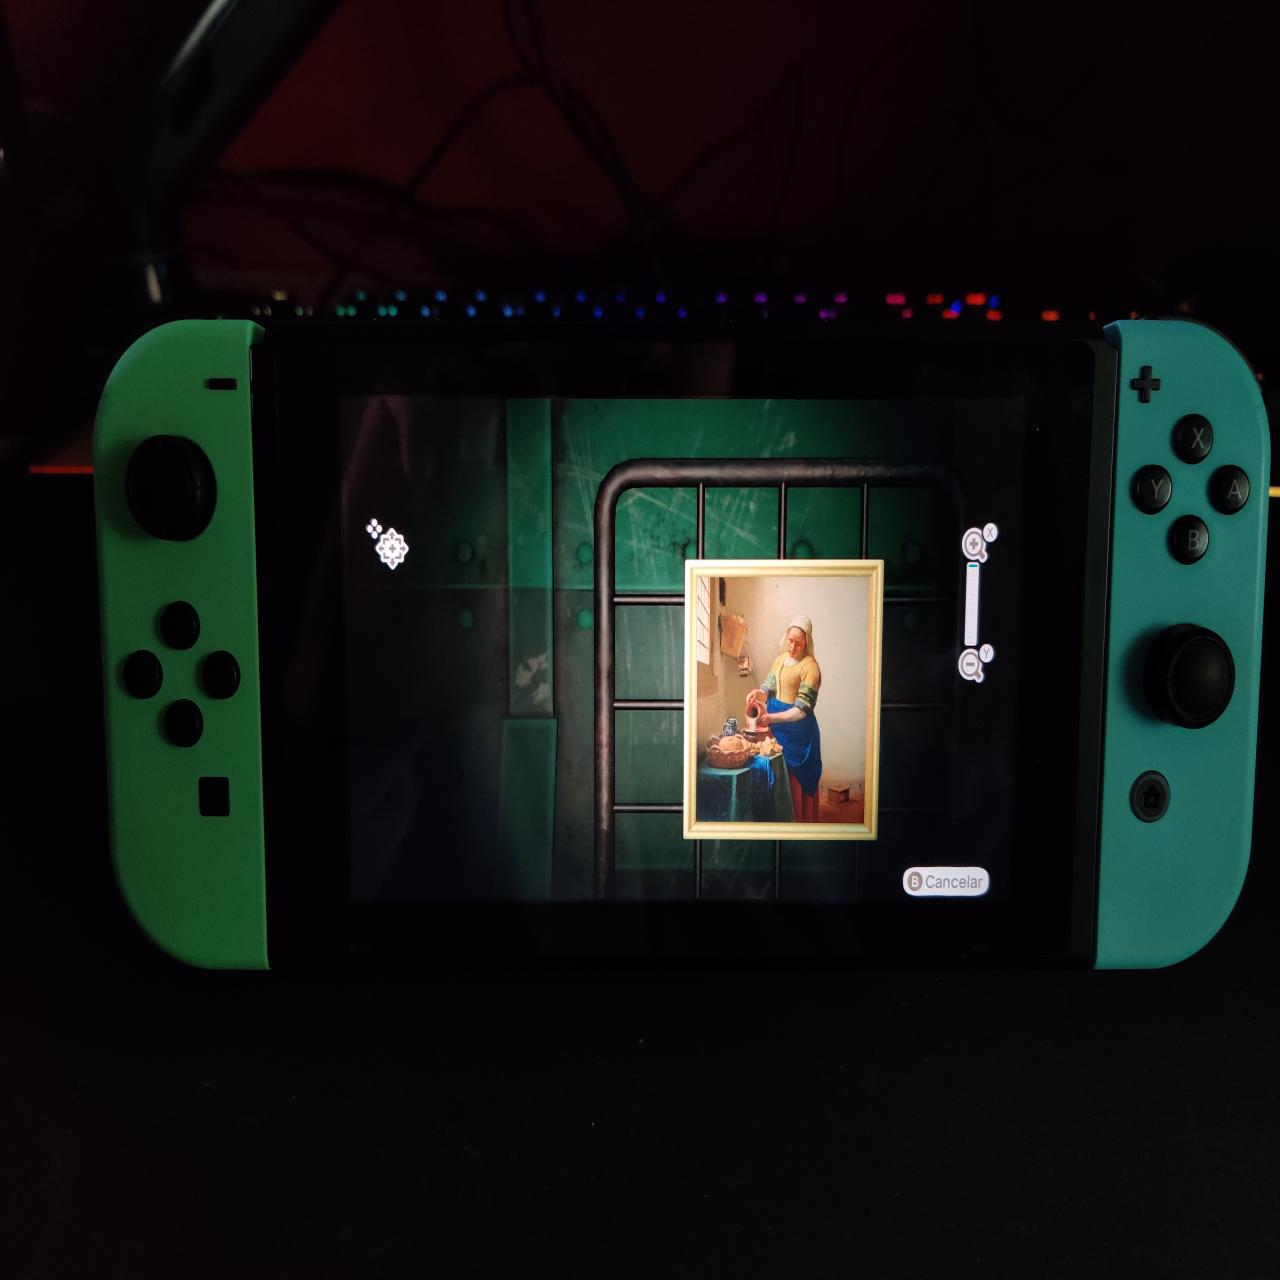MilkmaidFake: (699, 579, 867, 825)
